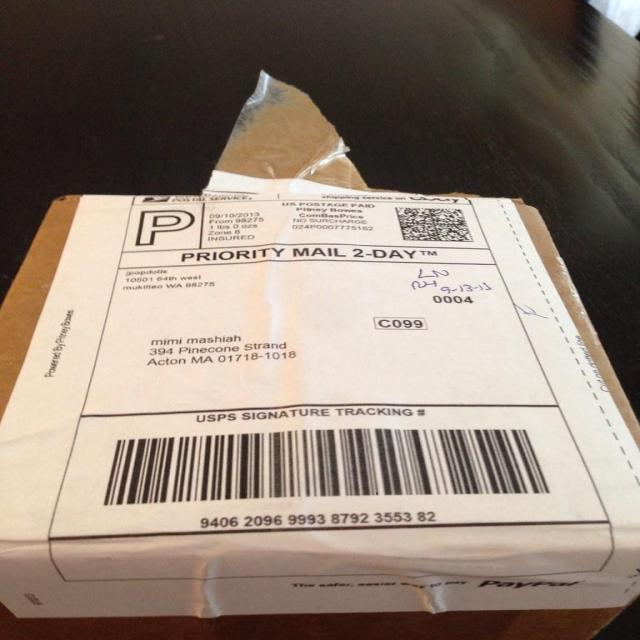cardboard: (0, 189, 640, 640)
